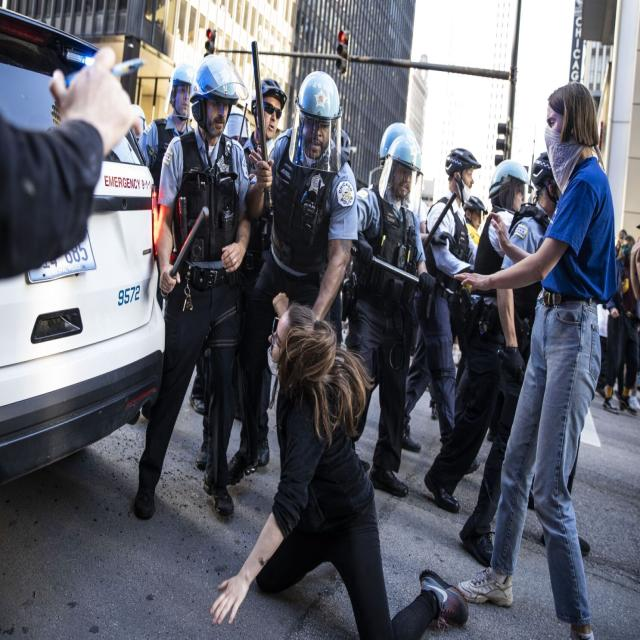police: (141, 60, 255, 582), (345, 123, 436, 487), (401, 136, 487, 487), (250, 66, 357, 341)
